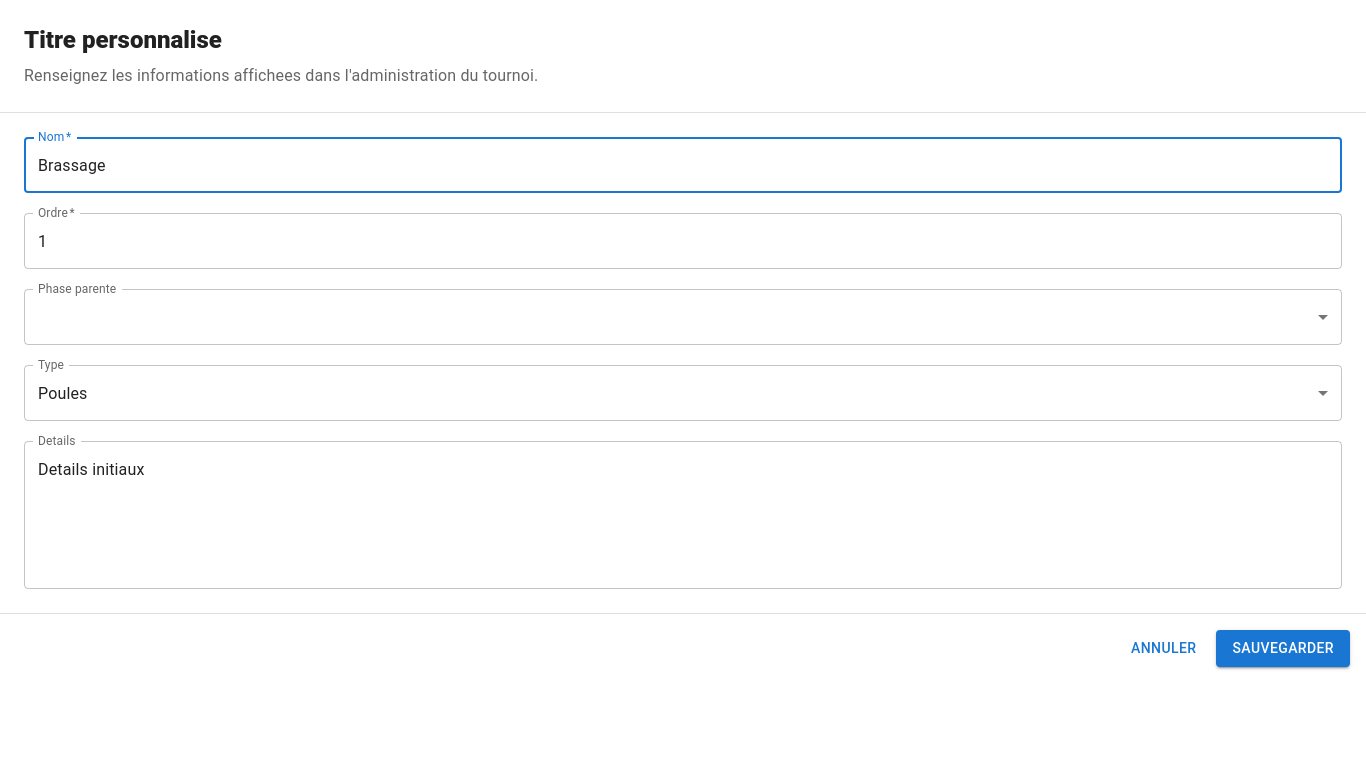
Test: ManagePhaseForm › should display parent choices in hierarchy order
This screenshot has width=1366, height=768.
Press the mouse on the dropdown named "Phase parente" at (683, 317), box [24, 289, 1342, 345]
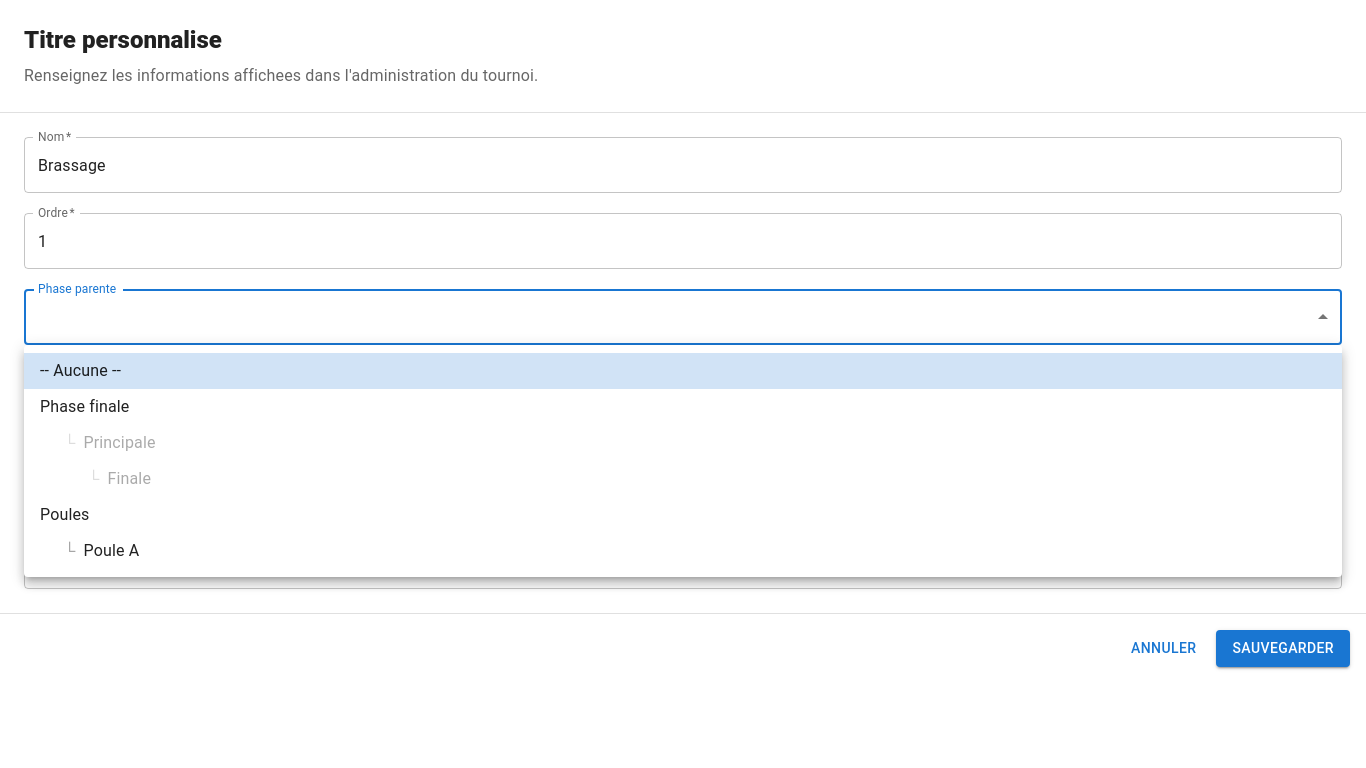
Check: the options read "-- Aucune --", "Phase finale", "└Principale", "└Finale", "Poules", "└Poule A", in this order, box [24, 353, 1342, 389]; [40, 397, 130, 416]; [64, 433, 156, 452]; [88, 469, 151, 488]; [40, 505, 90, 524]; [64, 541, 139, 560]
Check: the option "└ Poule A" is shown, box [64, 541, 139, 560]
